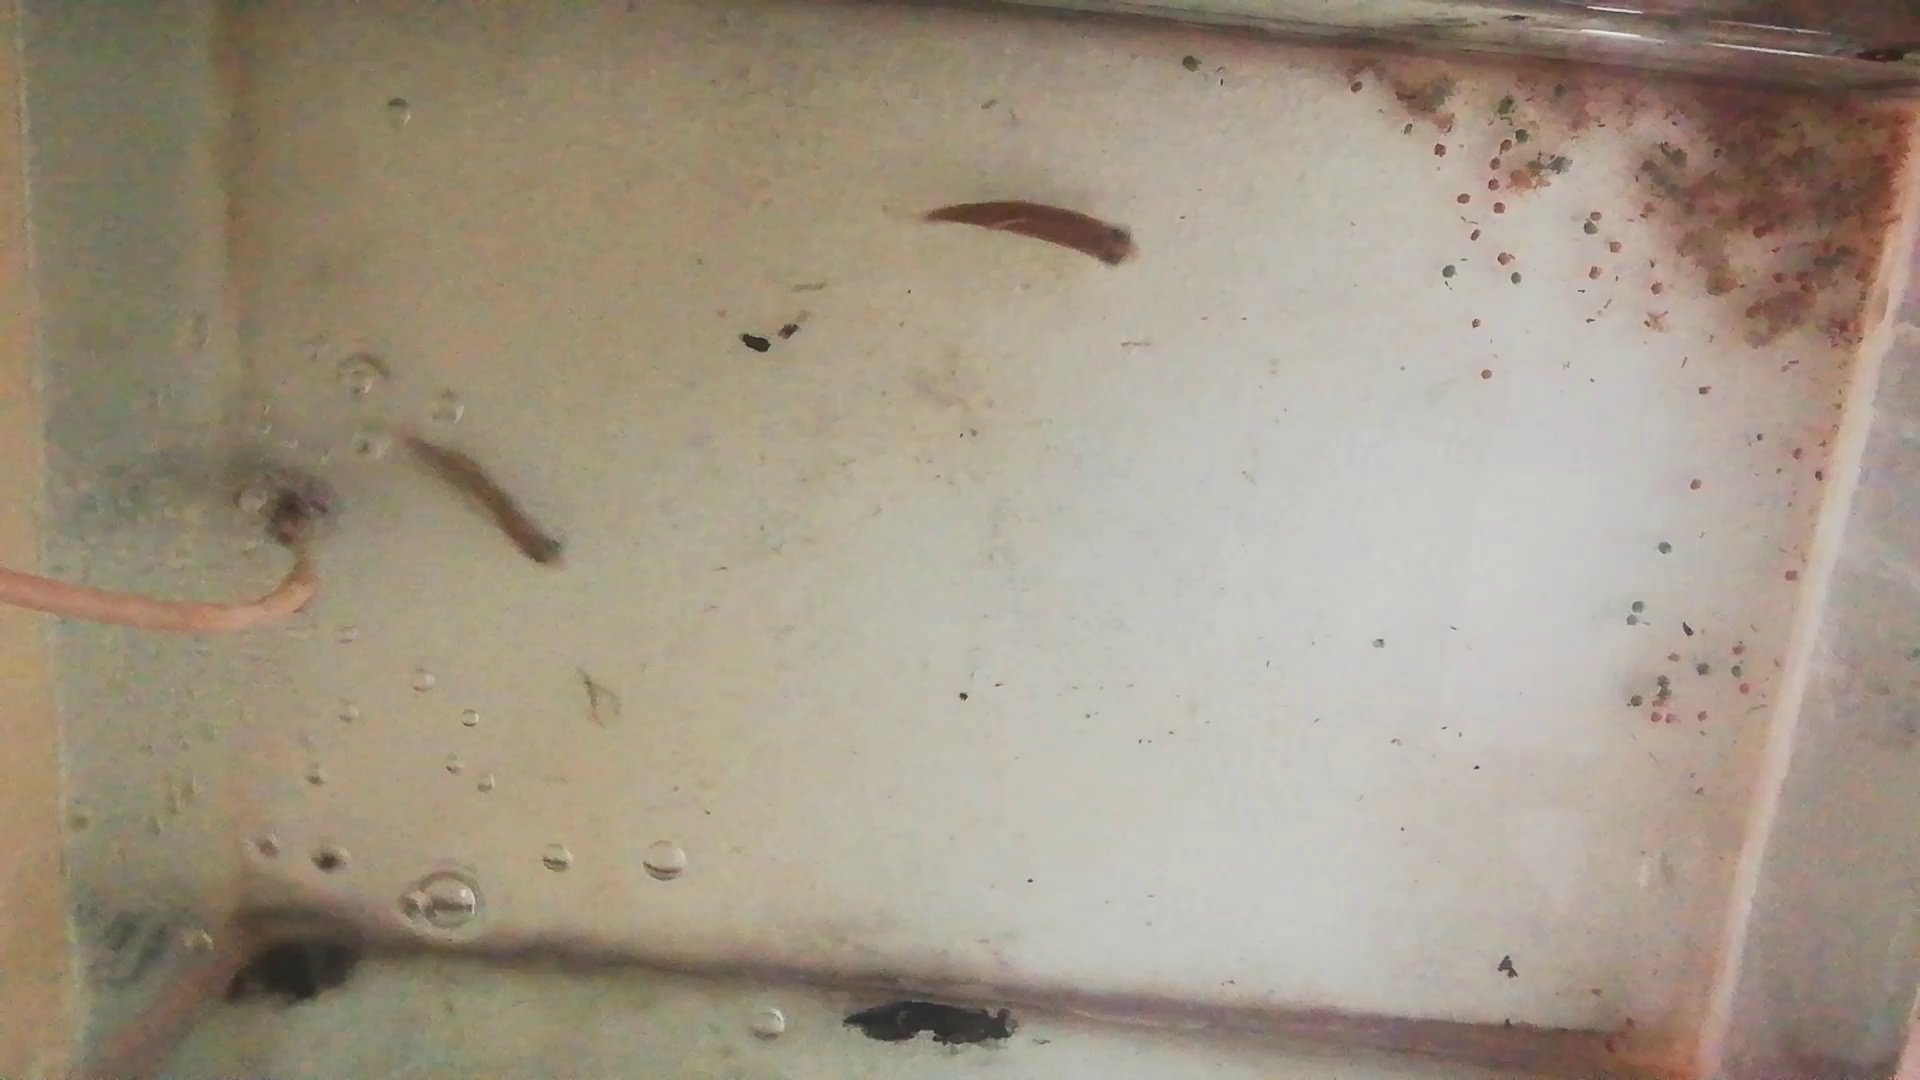fish: (402, 438, 564, 568), (920, 202, 1141, 270)
